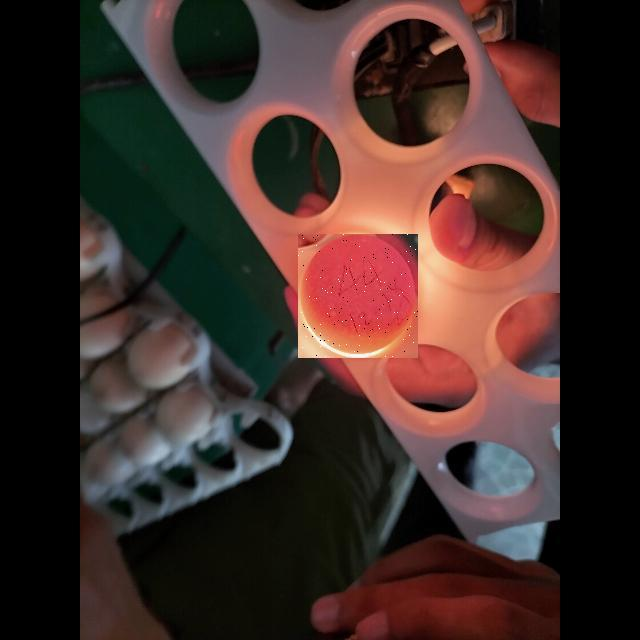Infertile: (298, 234, 418, 358)
